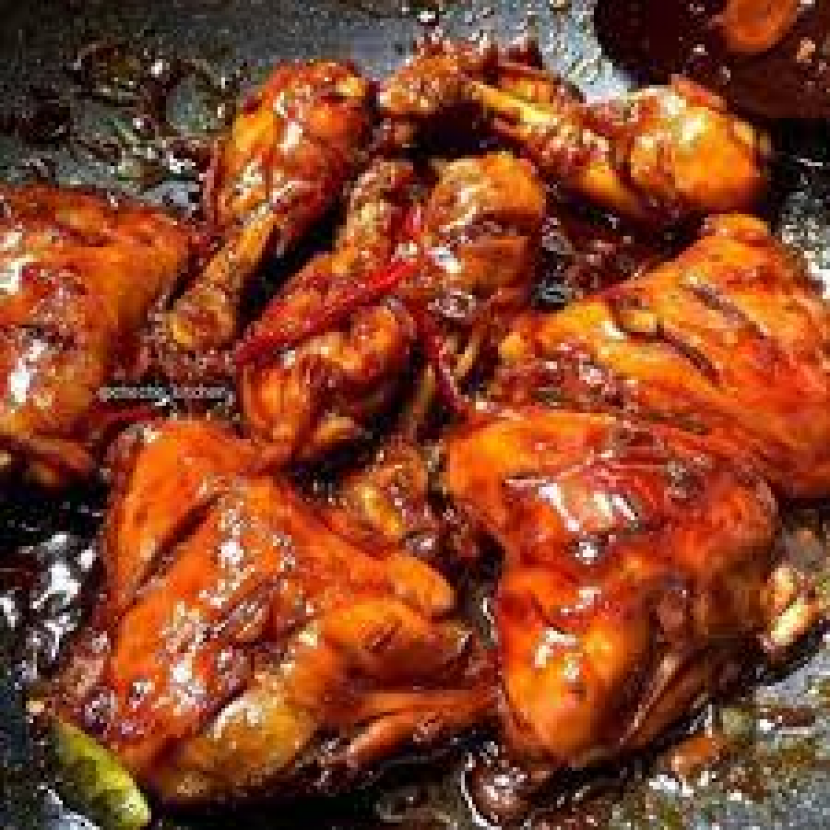Ayam: (73, 432, 448, 755), (484, 361, 771, 772), (366, 29, 777, 260), (263, 157, 545, 456), (166, 60, 385, 337)
